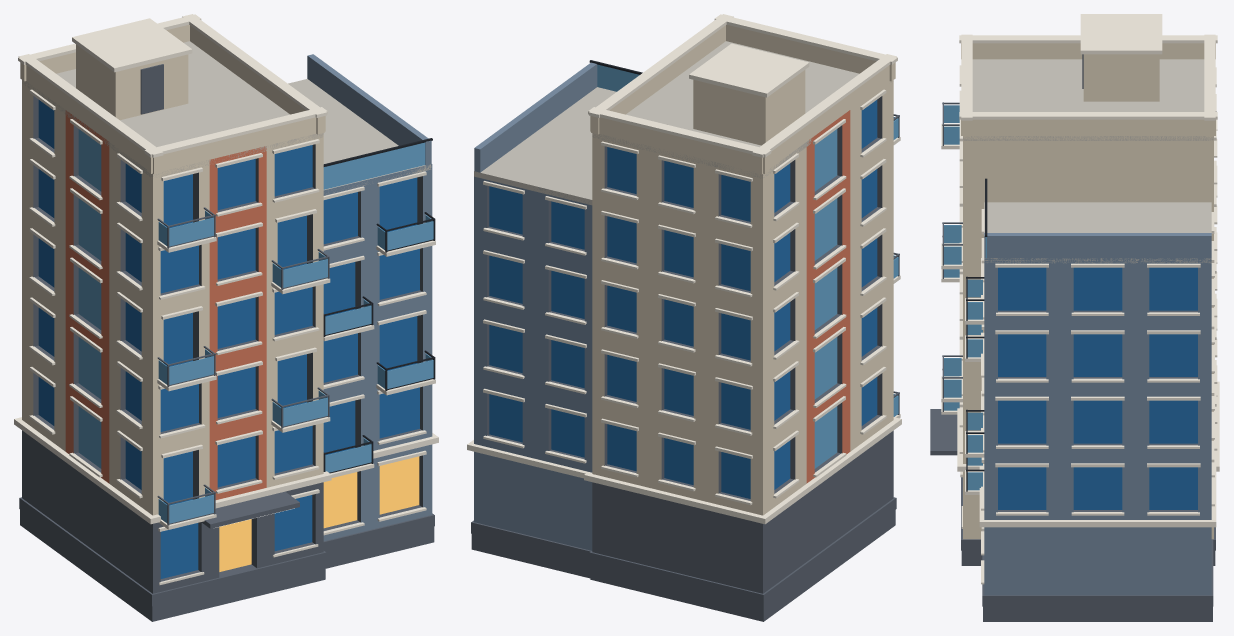
Rendered from 02_modern_residential-lod1.glb.
3 renders of one model, left to right at view 1: azimuth 30°, elevation 25°; view 2: azimuth 150°, elevation 25°; view 3: azimuth 270°, elevation 25°, orthographic. The views are drawn at different scales.
Visible parts, largest first — view 1: ResidencialModerno_LOD1; view 2: ResidencialModerno_LOD1; view 3: ResidencialModerno_LOD1.
Boxes of the visible parts, x1,y1,x2,y2 form: ResidencialModerno_LOD1: (14,14,438,621); ResidencialModerno_LOD1: (467,14,901,621); ResidencialModerno_LOD1: (930,14,1219,621).
Bounding box in the file's own units: 14.04 × 22.47 × 12.22.
Materials: 2 (2 with a texture image).
